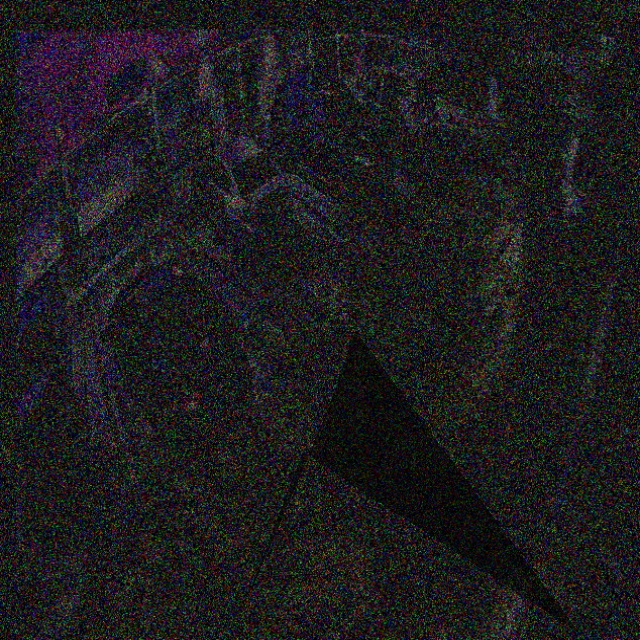Car: (106, 261, 247, 456), (272, 70, 395, 191), (189, 141, 289, 256), (341, 62, 433, 156)
